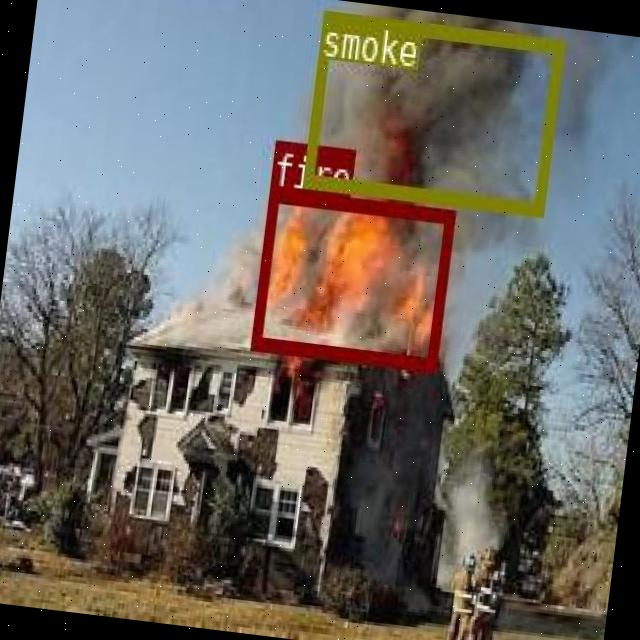fire: (250, 185, 453, 369)
smoke: (300, 7, 562, 211)
